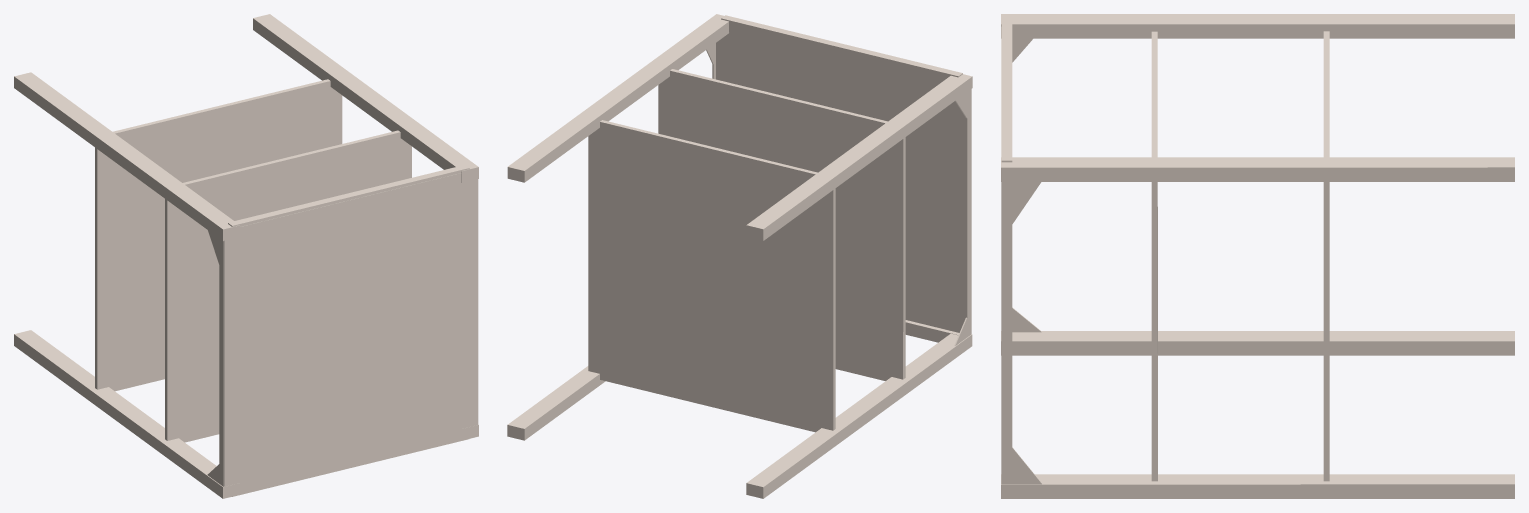
File: MeshSideTable_021_0.obj
The picture shows the model from 3 angles, left to right: view 1: azimuth 30°, elevation 25°; view 2: azimuth 150°, elevation 25°; view 3: azimuth 270°, elevation 25°; orthographic projection. The views are drawn at different scales.
Parts seen in each view (by area): view 1: SideTable_021; view 2: SideTable_021; view 3: SideTable_021.
Boxes of the visible parts, x1=… form: SideTable_021: x1=14, y1=14, x2=478, y2=498; SideTable_021: x1=507, y1=14, x2=972, y2=498; SideTable_021: x1=1001, y1=14, x2=1514, y2=498.
Bounding box in the file's own units: 0.4859 × 0.4921 × 0.6876.
